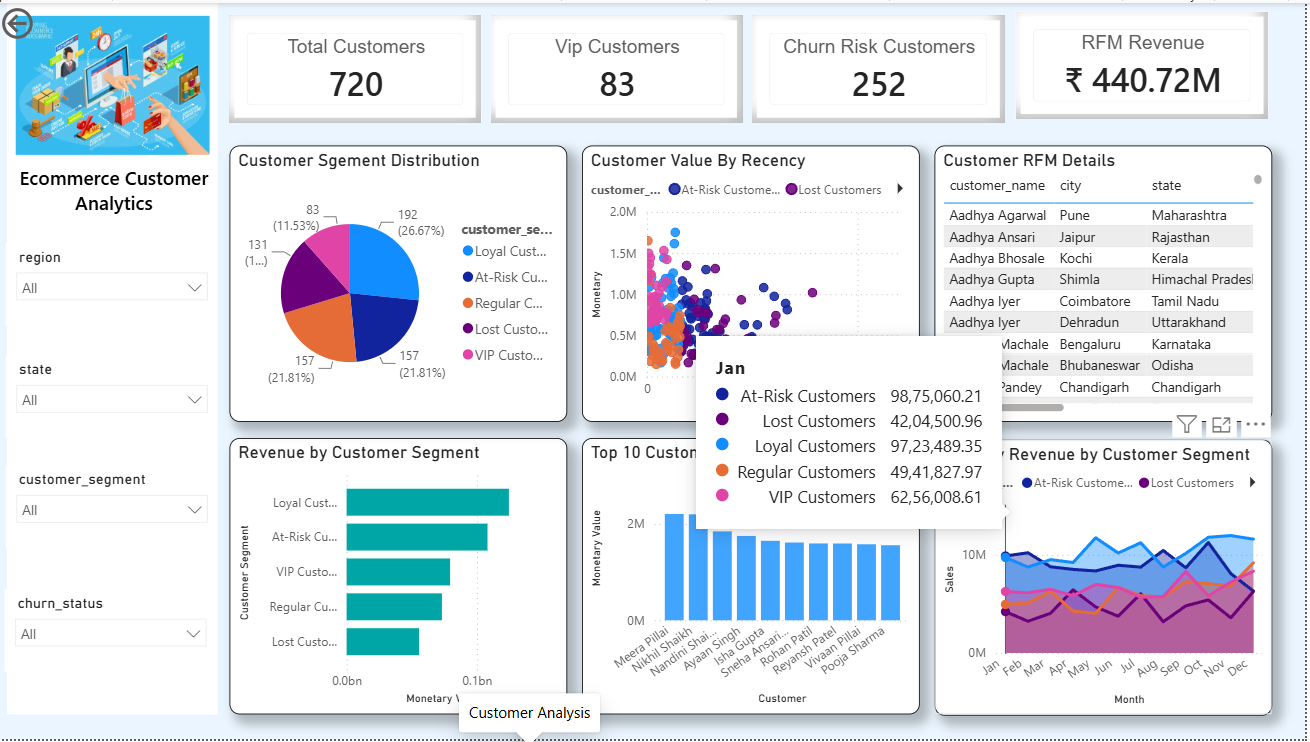

Layout of this report page (visuals, bound fields, positions):
{"tool":"powerbi","page":{"name":"Customer Analysis","canvas":[1280,720],"ordinal":2},"visuals":[{"type":"shape","box":[10,0,206.2,696.2],"z":0},{"type":"image","box":[18.3,8.6,189.5,144.3],"z":1},{"type":"textbox","box":[14.7,152.9,199.3,63.6],"z":2},{"type":"cardVisual","title":"Total Sales ","fields":{"Data":["clean_orders.Total Customers"]},"box":[227.5,12.5,246.2,105],"z":3},{"type":"cardVisual","title":"Total Sales ","fields":{"Data":["rfm.Vip Customers"]},"box":[483,12.5,246.2,105],"z":4},{"type":"cardVisual","title":"Total Sales ","fields":{"Data":["rfm.RFM Revenue"]},"box":[996,8.6,247,105.2],"z":5},{"type":"cardVisual","title":"Total Sales ","fields":{"Data":["churn.Churn Risk Customers"]},"box":[739,12.5,247.5,105],"z":6},{"type":"clusteredBarChart","title":"Revenue by Customer Segment","fields":{"Y":["Sum(rfm.monetary)"],"Category":["rfm.customer_segment"]},"box":[227.5,426,330,270],"z":7},{"type":"pieChart","title":"Customer Sgement Distribution","fields":{"Category":["rfm.customer_segment"],"Y":["CountNonNull(rfm.customer_id)"]},"box":[227.5,140,330,270],"z":8},{"type":"scatterChart","title":"Customer Value By Recency","fields":{"X":["churn.recency"],"Y":["rfm.monetary"],"Series":["rfm.customer_segment"]},"box":[572,140,330,270],"z":9},{"type":"actionButton","box":[0,0,100,40],"z":10},{"type":"clusteredColumnChart","title":"Top 10 Customers by Revenue ","fields":{"Y":["Sum(rfm.monetary)"],"Category":["rfm.customer_name"]},"box":[572,426,330,270.3],"z":11},{"type":"tableEx","title":"Customer RFM Details","fields":{"Values":["clean_orders.customer_name","clean_orders.city","clean_orders.state","clean_orders.region","rfm.customer_segment","rfm.recency","rfm.frequency","rfm.monetary","rfm.profit"]},"box":[917,140,330,270],"z":12},{"type":"areaChart","title":"Monthly Revenue by Customer Segment","fields":{"Category":["clean_orders.Month Name"],"Y":["Sum(clean_orders.sales)"],"Series":["rfm.customer_segment"]},"box":[917,426.2,330,270],"z":13},{"type":"slicer","fields":{"Values":["clean_orders.Region"]},"box":[8.2,234.6,207.2,81],"z":14},{"type":"slicer","fields":{"Values":["clean_orders.state"]},"box":[8.2,344.4,207.2,81],"z":15},{"type":"slicer","fields":{"Values":["rfm.customer_segment"]},"box":[8.2,452.8,207.2,81],"z":16},{"type":"slicer","fields":{"Values":["churn.churn_status"]},"box":[6.9,573.6,207.2,81],"z":17}]}

Visuals, with their boxes on the page's 1280x720 design canvas (x1, y1, x2, y2). These are canvas units, not pixel positions in the 1310x742 screenshot, which may show the page scaled, cropped or inside an application window:
shape: {"left": 10, "top": 0, "right": 216, "bottom": 696}
image: {"left": 18, "top": 9, "right": 208, "bottom": 153}
textbox: {"left": 15, "top": 153, "right": 214, "bottom": 216}
"Total Sales " cardVisual: {"left": 228, "top": 12, "right": 474, "bottom": 118}
"Total Sales " cardVisual: {"left": 483, "top": 12, "right": 729, "bottom": 118}
"Total Sales " cardVisual: {"left": 996, "top": 9, "right": 1243, "bottom": 114}
"Total Sales " cardVisual: {"left": 739, "top": 12, "right": 986, "bottom": 118}
"Revenue by Customer Segment" clusteredBarChart: {"left": 228, "top": 426, "right": 558, "bottom": 696}
"Customer Sgement Distribution" pieChart: {"left": 228, "top": 140, "right": 558, "bottom": 410}
"Customer Value By Recency" scatterChart: {"left": 572, "top": 140, "right": 902, "bottom": 410}
actionButton: {"left": 0, "top": 0, "right": 100, "bottom": 40}
"Top 10 Customers by Revenue " clusteredColumnChart: {"left": 572, "top": 426, "right": 902, "bottom": 696}
"Customer RFM Details" tableEx: {"left": 917, "top": 140, "right": 1247, "bottom": 410}
"Monthly Revenue by Customer Segment" areaChart: {"left": 917, "top": 426, "right": 1247, "bottom": 696}
slicer - clean_orders.Region: {"left": 8, "top": 235, "right": 215, "bottom": 316}
slicer - clean_orders.state: {"left": 8, "top": 344, "right": 215, "bottom": 425}
slicer - rfm.customer_segment: {"left": 8, "top": 453, "right": 215, "bottom": 534}
slicer - churn.churn_status: {"left": 7, "top": 574, "right": 214, "bottom": 655}
